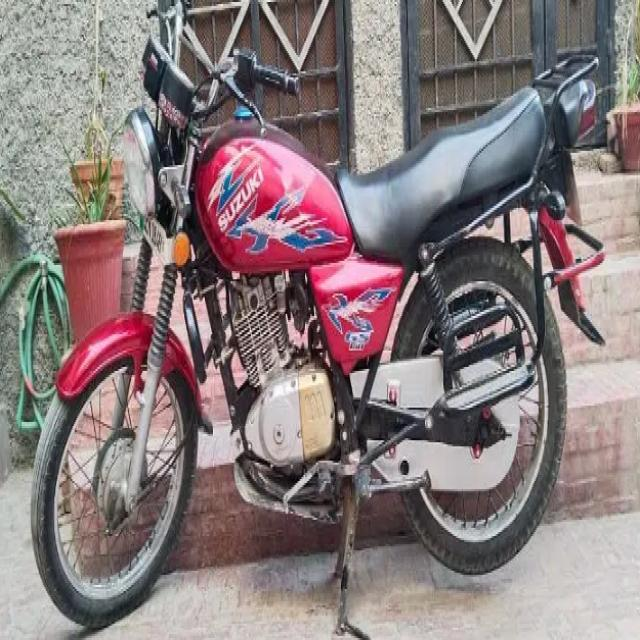Bike: (63, 34, 609, 606)
